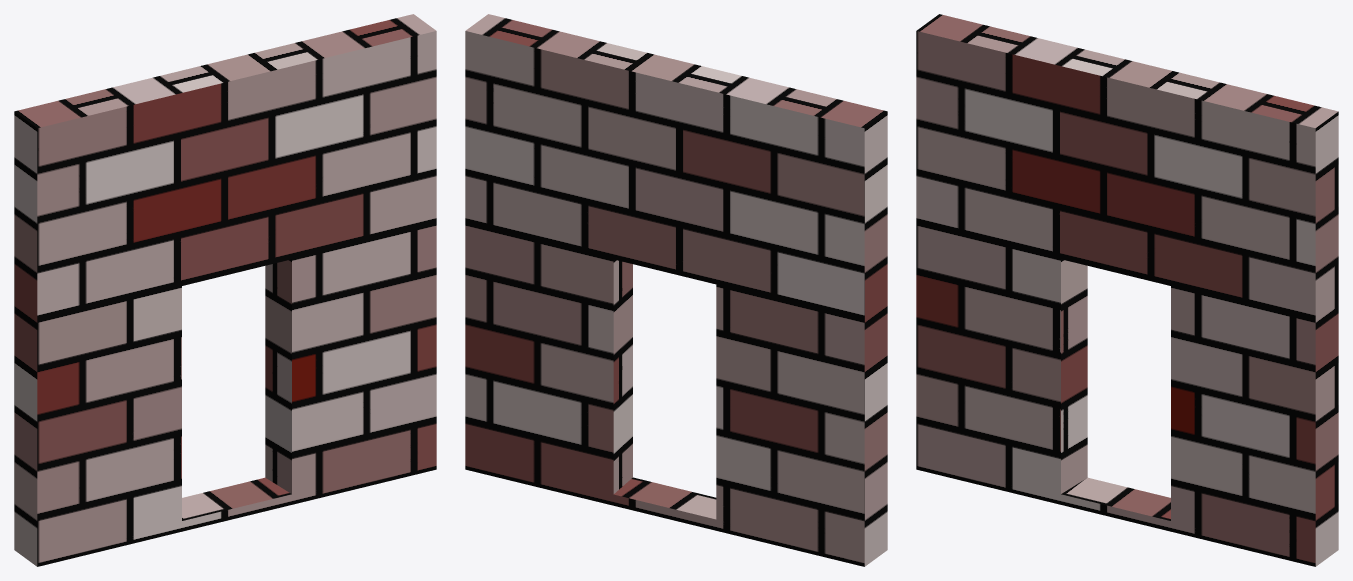
Rendered from doorway.glb.
The picture shows the model from 3 angles, left to right: view 1: azimuth 30°, elevation 25°; view 2: azimuth 150°, elevation 25°; view 3: azimuth 330°, elevation 25°; orthographic projection.
Visible parts, largest first — view 1: Cube.002; view 2: Cube.002; view 3: Cube.002.
Boxes of the visible parts, x1,y1,x2,y2 form: Cube.002: [14, 14, 436, 566]; Cube.002: [465, 14, 887, 566]; Cube.002: [916, 14, 1338, 566].
Size of the model in its own units: 4 by 4.2 by 0.4.
1 material, 1 textured.
